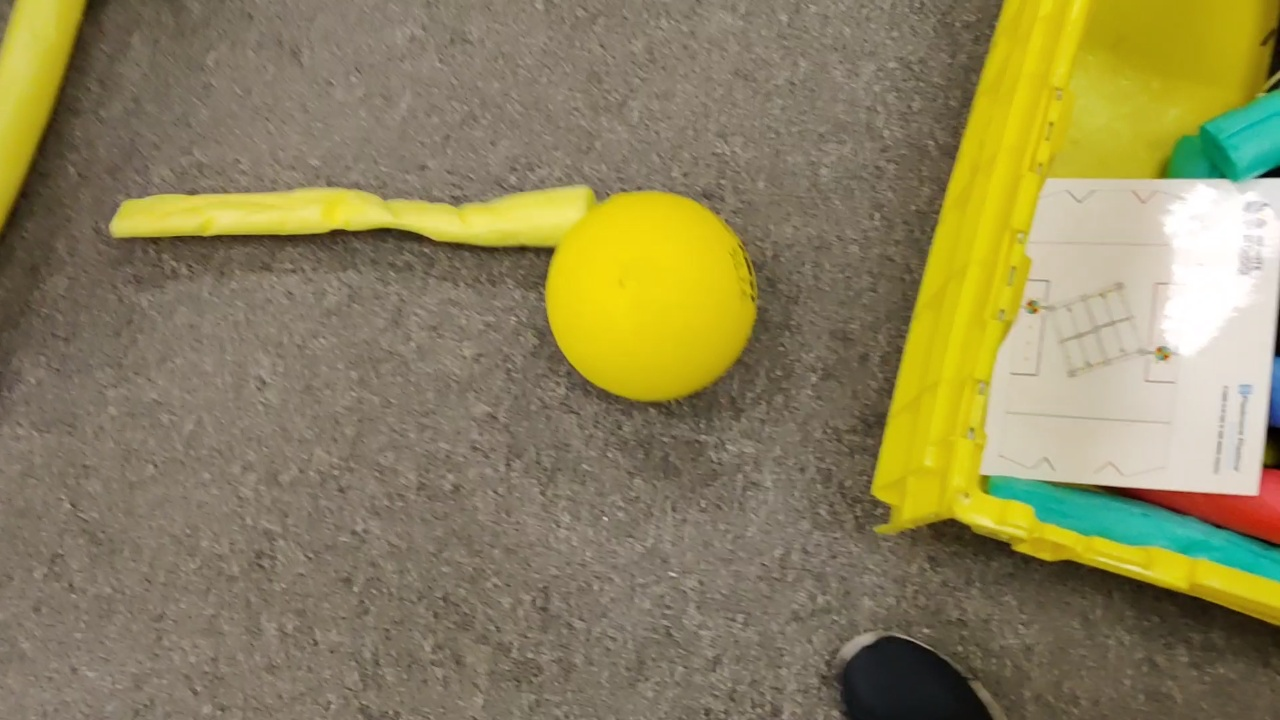Ball: (545, 188, 750, 414)
